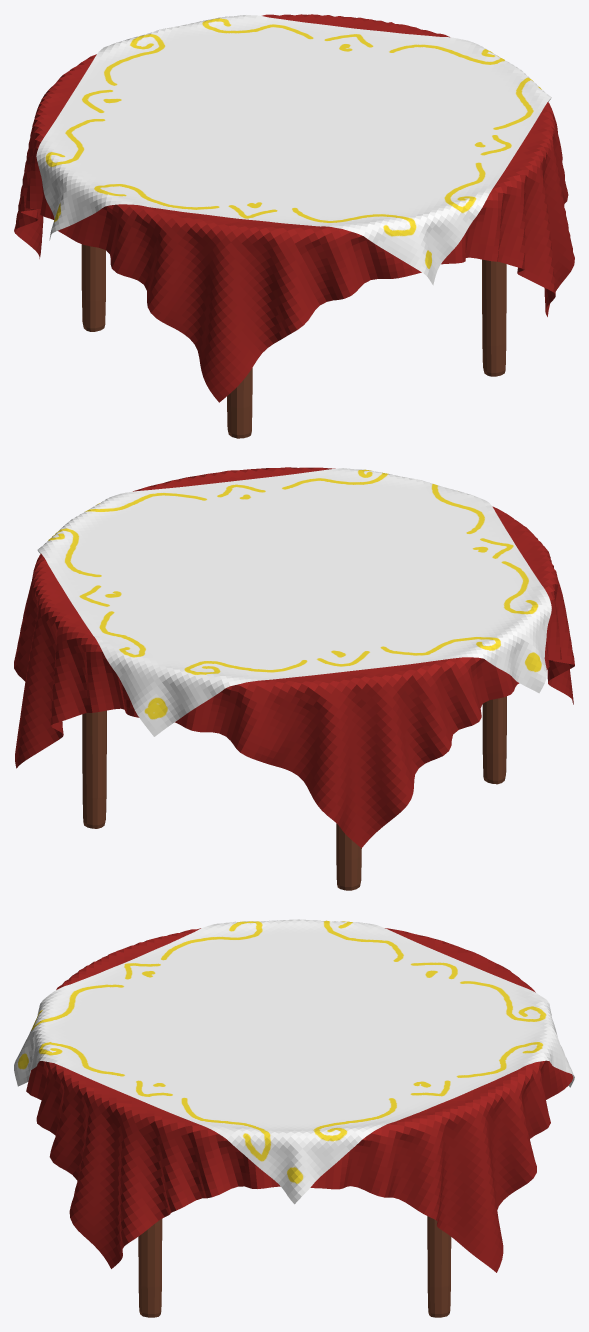
The model's file is tablefield2.fbx.
3 views of the same model, one above another, from view 1: azimuth 30°, elevation 25°; view 2: azimuth 150°, elevation 25°; view 3: azimuth 270°, elevation 25° (orthographic).
Visible parts, largest first — view 1: Plane.001, Plane, Cylinder; view 2: Plane.001, Plane, Cylinder; view 3: Plane.001, Plane, Cylinder.
Boxes of the visible parts, box(x1,y1,x2,y2) form: Plane.001: box(36, 15, 551, 285); Plane: box(14, 14, 574, 402); Cylinder: box(81, 244, 506, 438); Plane.001: box(37, 468, 551, 736); Plane: box(14, 467, 574, 848); Cylinder: box(82, 696, 506, 890); Plane.001: box(14, 919, 574, 1204); Plane: box(26, 928, 573, 1272); Cylinder: box(138, 1216, 451, 1317).
Bounding box in the file's own units: 2216 × 978 × 2198.
